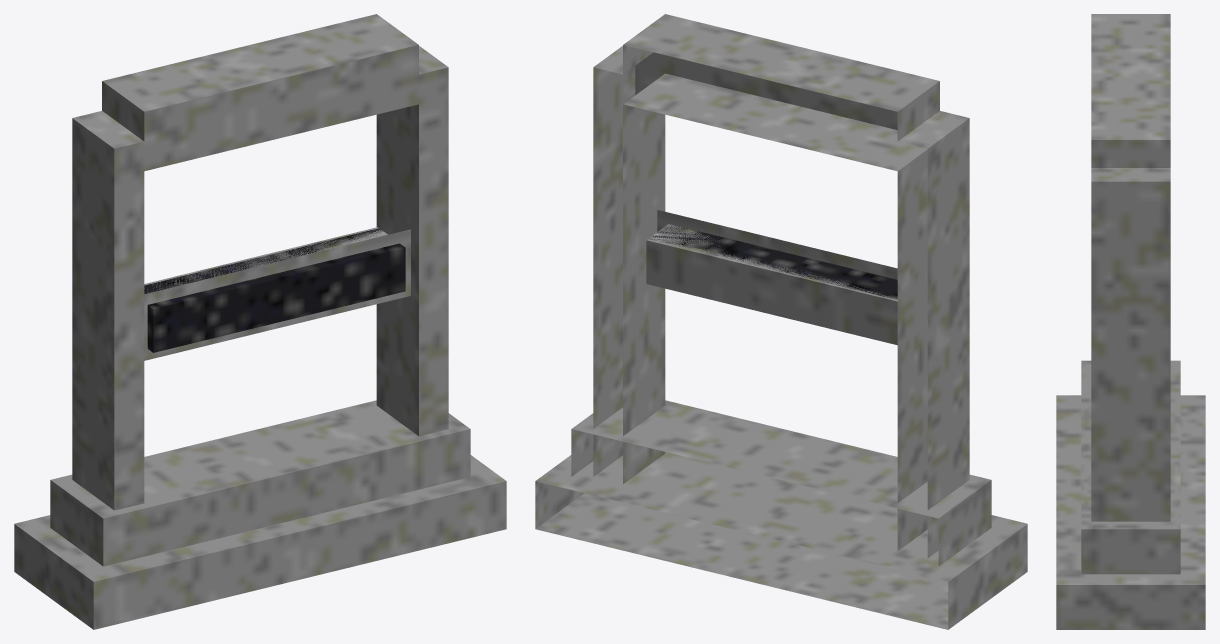
Rendered from Stone.fbx.
3 views of the same model, side by side, from view 1: azimuth 30°, elevation 25°; view 2: azimuth 150°, elevation 25°; view 3: azimuth 270°, elevation 25° (orthographic). The views are drawn at different scales.
Parts seen in each view (by area): view 1: polySurface1, pCube2, pCube3, pCube6, polySurface7; view 2: polySurface1, pCube3, pCube2, polySurface7, pCube6; view 3: polySurface1, pCube3, pCube2.
Part boxes in pixels (<box>): polySurface1: <box>72,14,448,510</box>; pCube2: <box>50,400,470,566</box>; pCube3: <box>14,455,506,629</box>; pCube6: <box>144,228,405,352</box>; polySurface7: <box>144,227,410,360</box>; polySurface1: <box>593,14,969,558</box>; pCube3: <box>535,452,1027,629</box>; pCube2: <box>571,400,991,565</box>; polySurface7: <box>646,210,897,345</box>; pCube6: <box>648,224,897,299</box>; polySurface1: <box>1091,14,1170,521</box>; pCube3: <box>1056,395,1205,629</box>; pCube2: <box>1081,360,1180,574</box>.
Size of the model in its own units: 9 by 10.15 by 3.
1 material, 1 textured.
